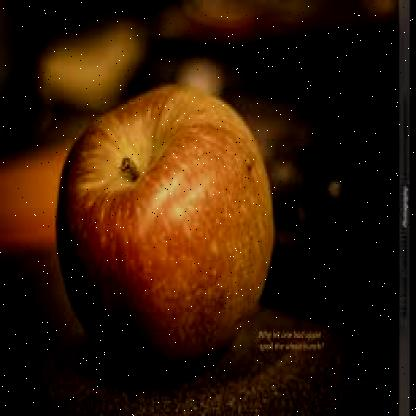apple: (57, 78, 270, 360)
